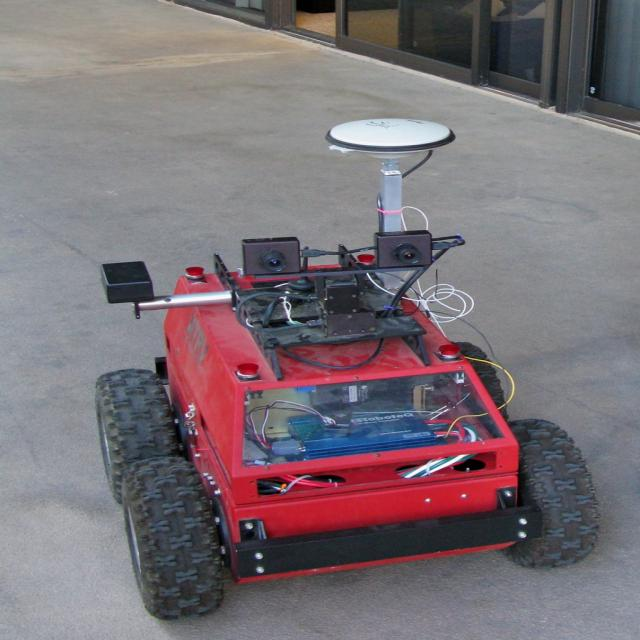car: (91, 117, 601, 623)
